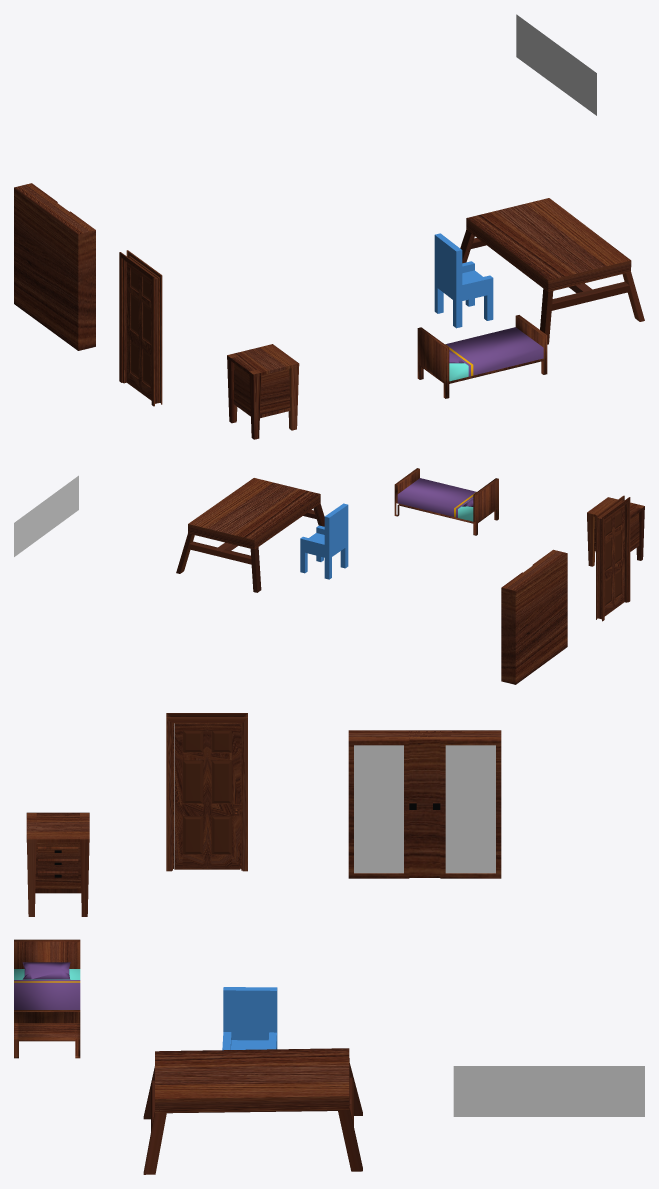
Rendered from duy20.glb.
3 renders of one model, top to bottom at view 1: azimuth 30°, elevation 25°; view 2: azimuth 150°, elevation 25°; view 3: azimuth 270°, elevation 25°, orthographic. The views are drawn at different scales.
Visible parts, largest first — view 1: Cube, closet, basic_door, bed, small chest, kinhcuaso, chair; view 2: Cube, closet, basic_door, bed, kinhcuaso, chair, small chest; view 3: Cube, basic_door, closet, kinhcuaso, bed, kinh tu, kinh tu 1, small chest, chair.
Boxes of the visible parts, box(x1,y1,x2,y2) form: Cube: box(460, 198, 644, 344); closet: box(14, 183, 95, 350); basic_door: box(119, 250, 162, 406); bed: box(417, 315, 547, 398); small chest: box(227, 344, 299, 439); kinhcuaso: box(516, 14, 596, 115); chair: box(434, 233, 493, 328); Cube: box(176, 478, 324, 592); closet: box(501, 549, 567, 684); basic_door: box(596, 495, 630, 621); bed: box(394, 468, 498, 535); kinhcuaso: box(14, 475, 78, 556); chair: box(300, 503, 348, 579); small chest: box(587, 497, 644, 566); Cube: box(143, 1048, 362, 1174); basic_door: box(166, 713, 247, 871); closet: box(348, 730, 501, 878); kinhcuaso: box(453, 1066, 644, 1116); bed: box(14, 939, 80, 1058); kinh tu: box(445, 745, 495, 873); kinh tu 1: box(354, 745, 403, 873); small chest: box(26, 812, 89, 916); chair: box(222, 987, 277, 1050).
Bounding box in the file's own units: 36.14 × 9.43 × 29.5.
12 materials, 5 textured.
